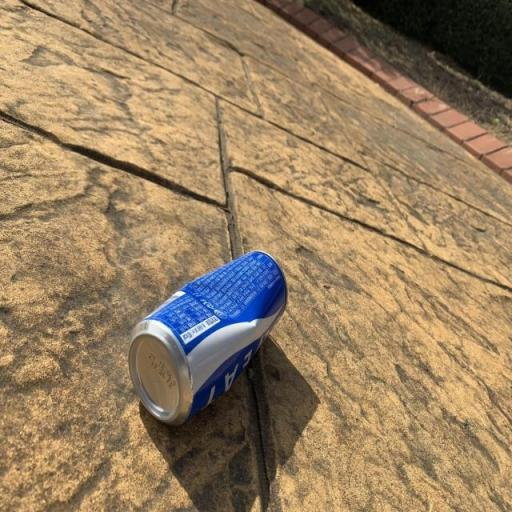metal: (113, 235, 321, 439)
